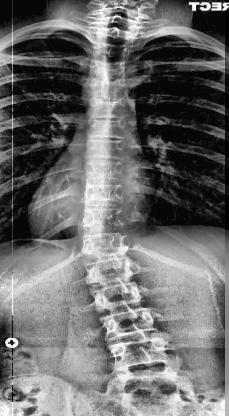Vertebrae: (102, 340, 174, 374), (98, 306, 162, 336), (86, 284, 152, 308), (80, 260, 142, 284), (80, 233, 136, 259), (79, 207, 135, 231), (82, 184, 132, 208), (88, 121, 132, 143), (88, 77, 132, 99), (83, 161, 127, 182), (87, 140, 129, 162), (88, 98, 130, 118), (91, 61, 129, 79), (97, 26, 135, 44), (94, 42, 130, 60)
